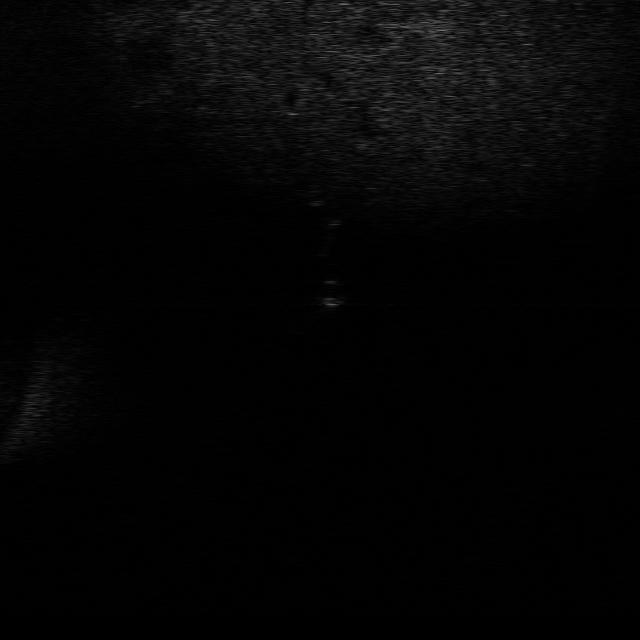ball: (310, 272, 354, 311)
human body: (296, 166, 342, 254)
